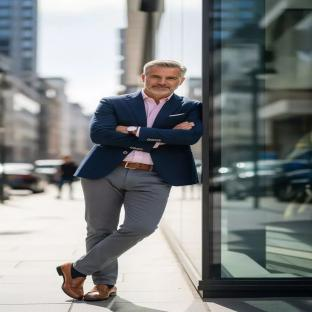Human: (57, 60, 202, 300)
